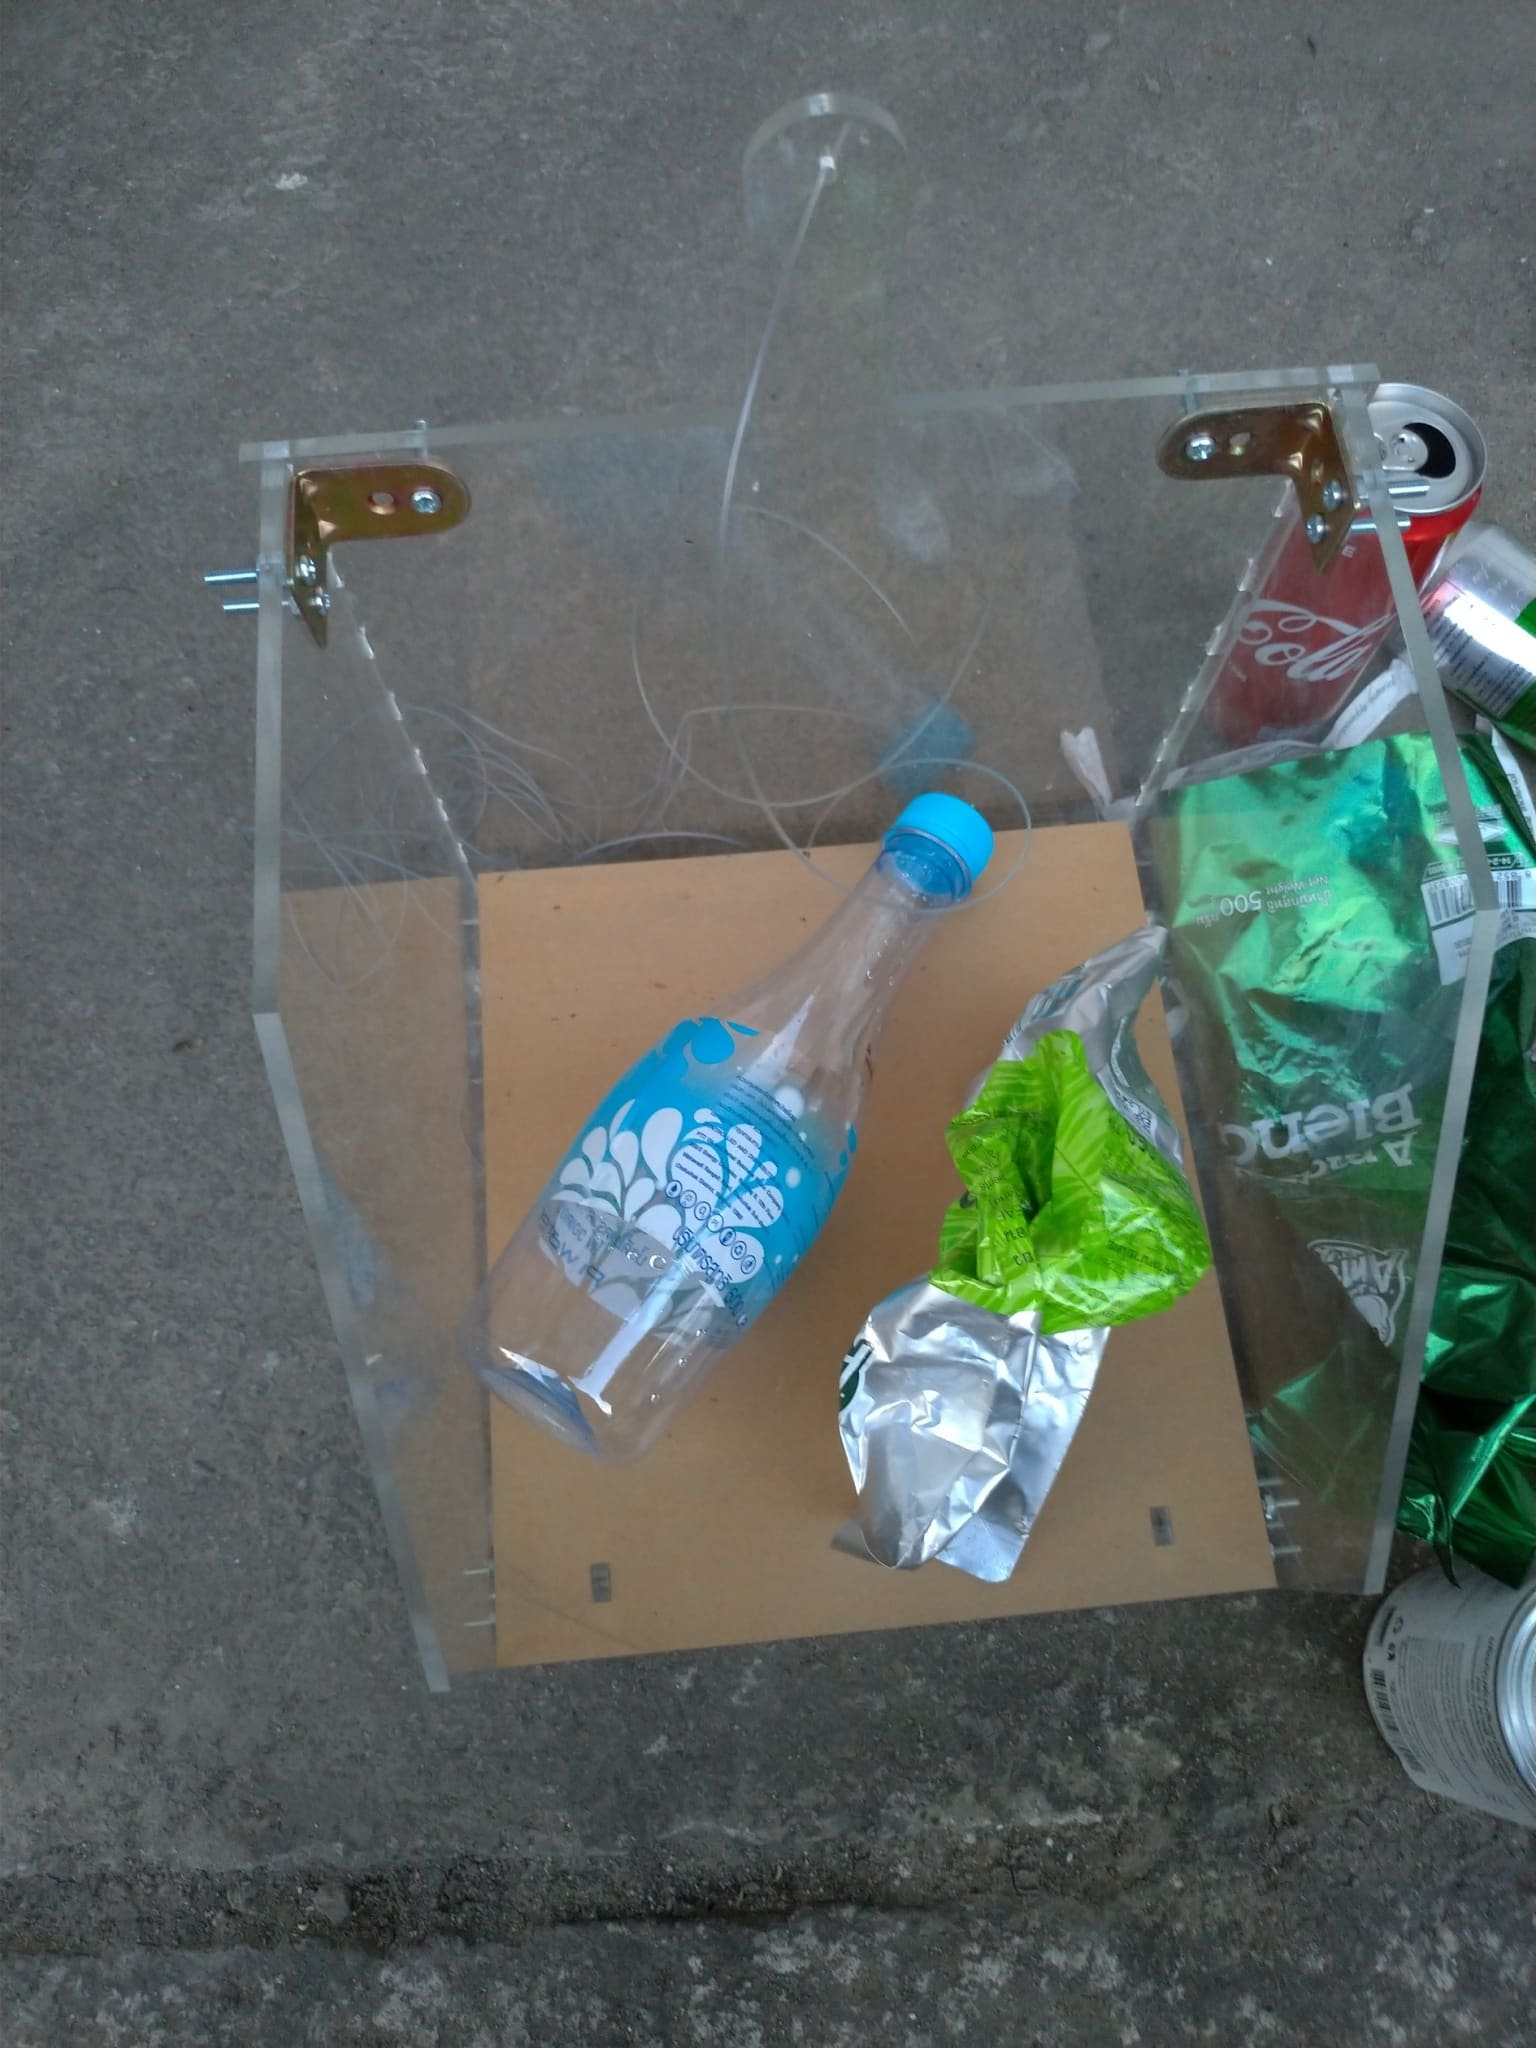AlCan: (1202, 377, 1496, 742), (1360, 1545, 1536, 1817), (1425, 539, 1536, 714)
Others: (1154, 745, 1536, 1530), (854, 929, 1208, 1564)
PlasticBottle: (486, 787, 999, 1455)
